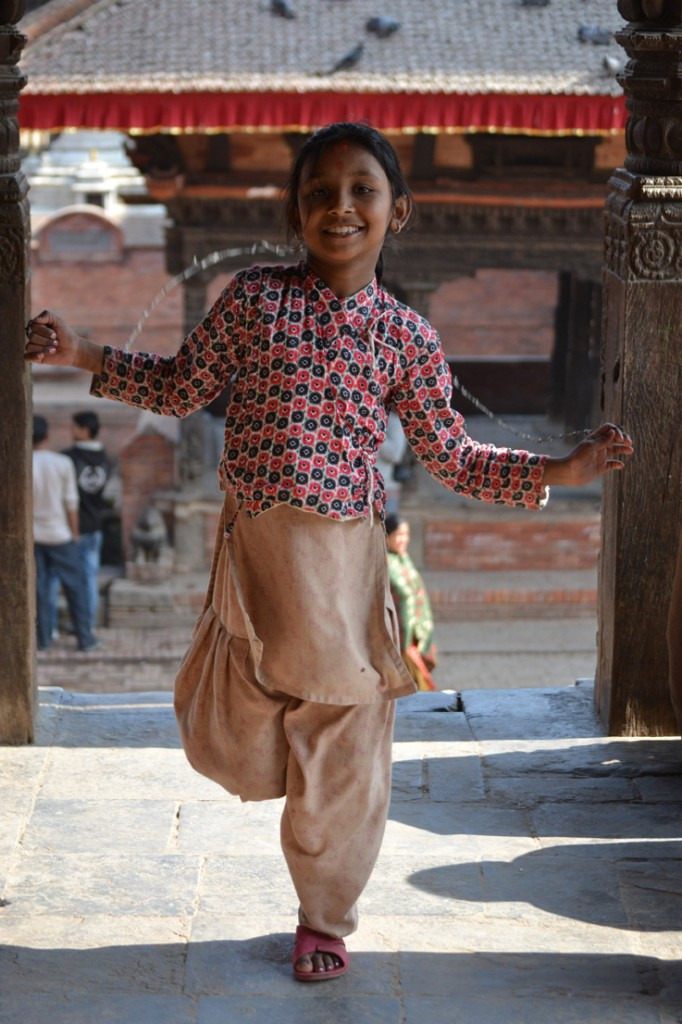human: (16, 112, 642, 984)
